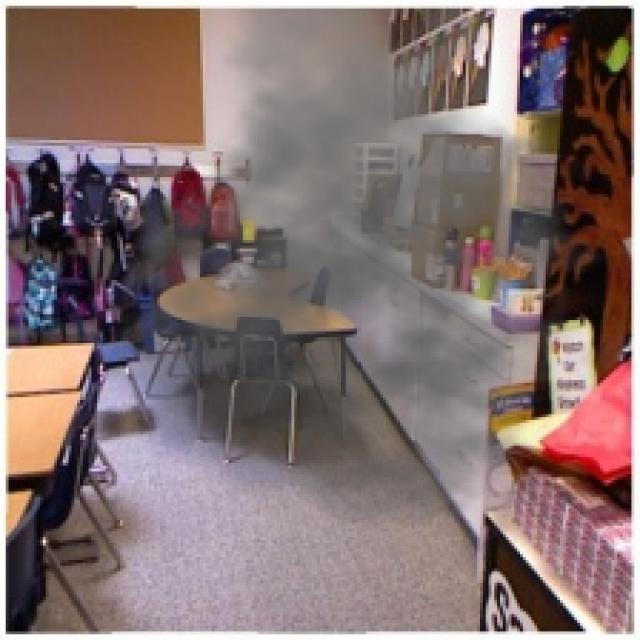smoke: (103, 9, 631, 528)
